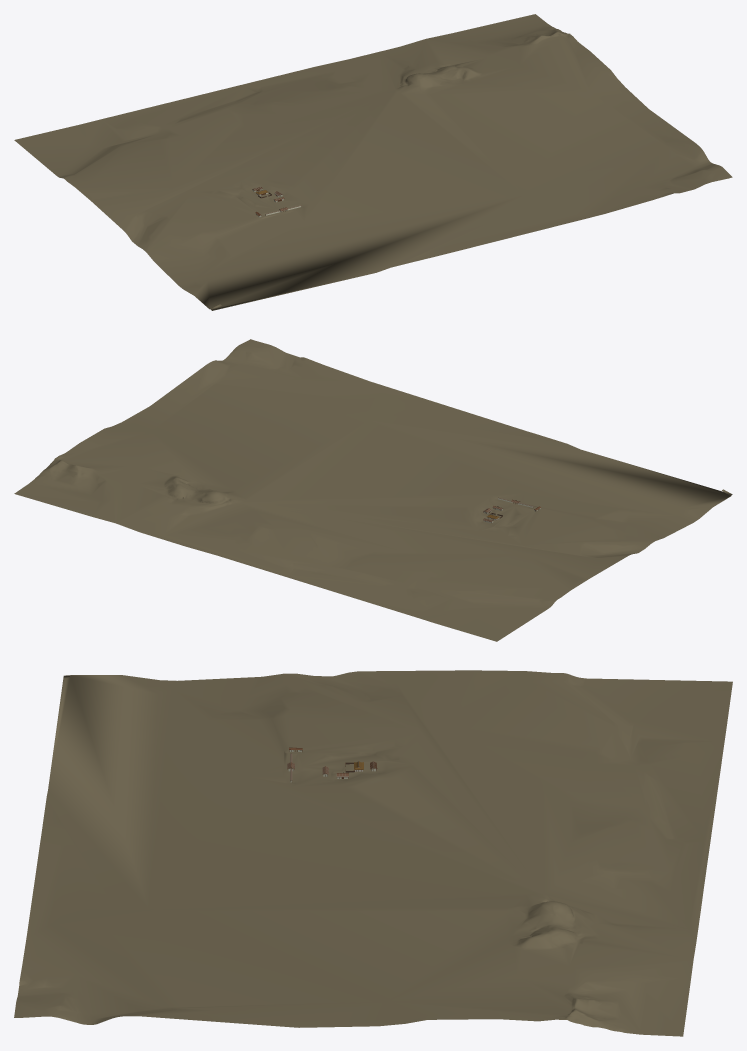
Rendered from site.glb.
The picture shows the model from 3 angles, top to bottom: view 1: azimuth 30°, elevation 25°; view 2: azimuth 150°, elevation 25°; view 3: azimuth 270°, elevation 25°; orthographic projection. The views are drawn at different scales.
Parts seen in each view (by area): view 1: chikei_E; view 2: chikei_E; view 3: chikei_E.
Part boxes in pixels (bbox=[...]): chikei_E: bbox=[14, 14, 732, 310]; chikei_E: bbox=[14, 339, 732, 641]; chikei_E: bbox=[14, 670, 732, 1036].
Size of the model in its own units: 1039 by 63.11 by 803.
